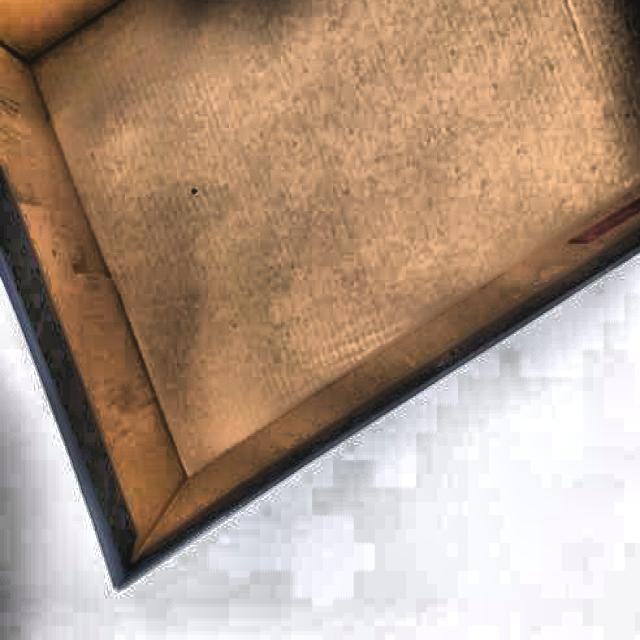cardboard: (0, 0, 640, 594)
